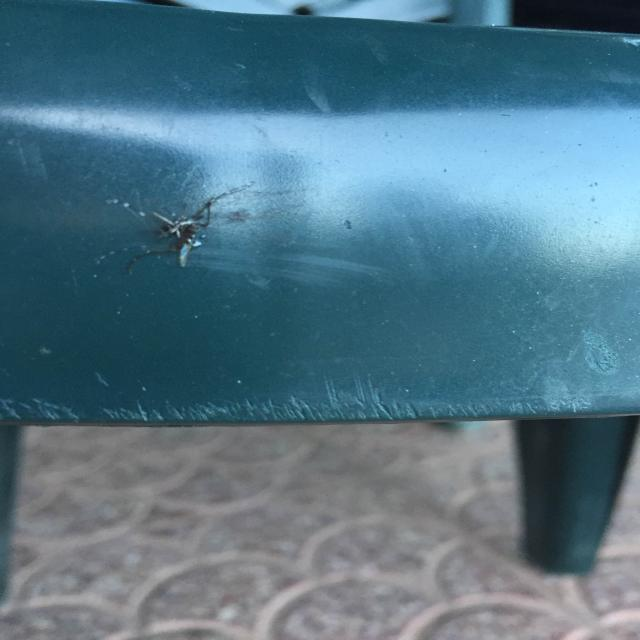albopictus: (95, 177, 265, 271)
